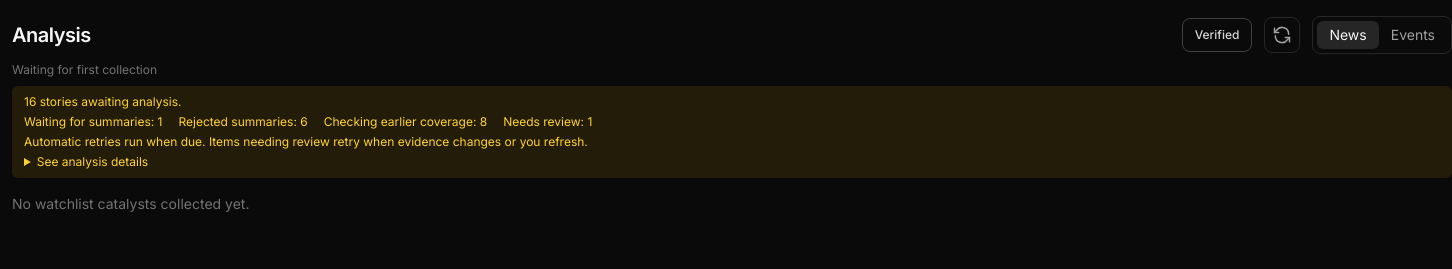
Test: NewsSection › separates blocked work and keeps held source evidence accessible
The image size is (1452, 269).
Expected: the text "16 stories awaiting analysis." is shown, [24,94,182,109]
Expected: the text "Waiting for summaries: 1" is shown, [24,114,162,130]
What coordinates should you click on to do the following:
click the heading "See analysis details"
I would click on:
 (92, 162)
Its box is [37,154,148,169].
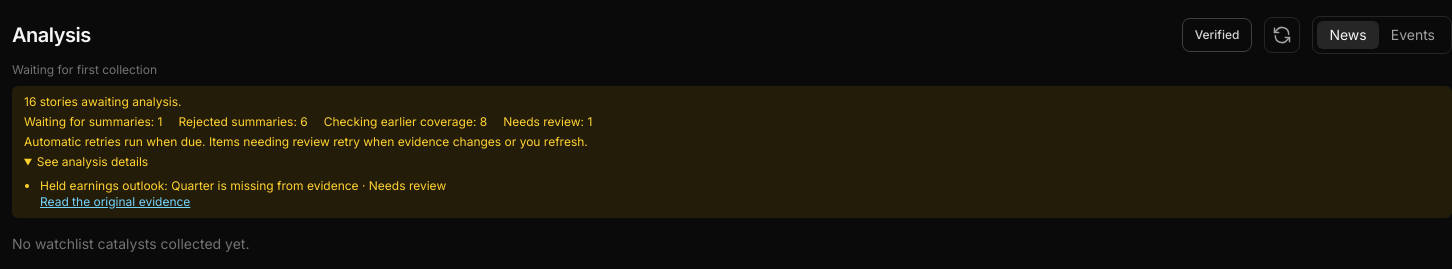
Expected: the text "Quarter is missing from evidence" shows "Needs review", [359,178,446,193]
